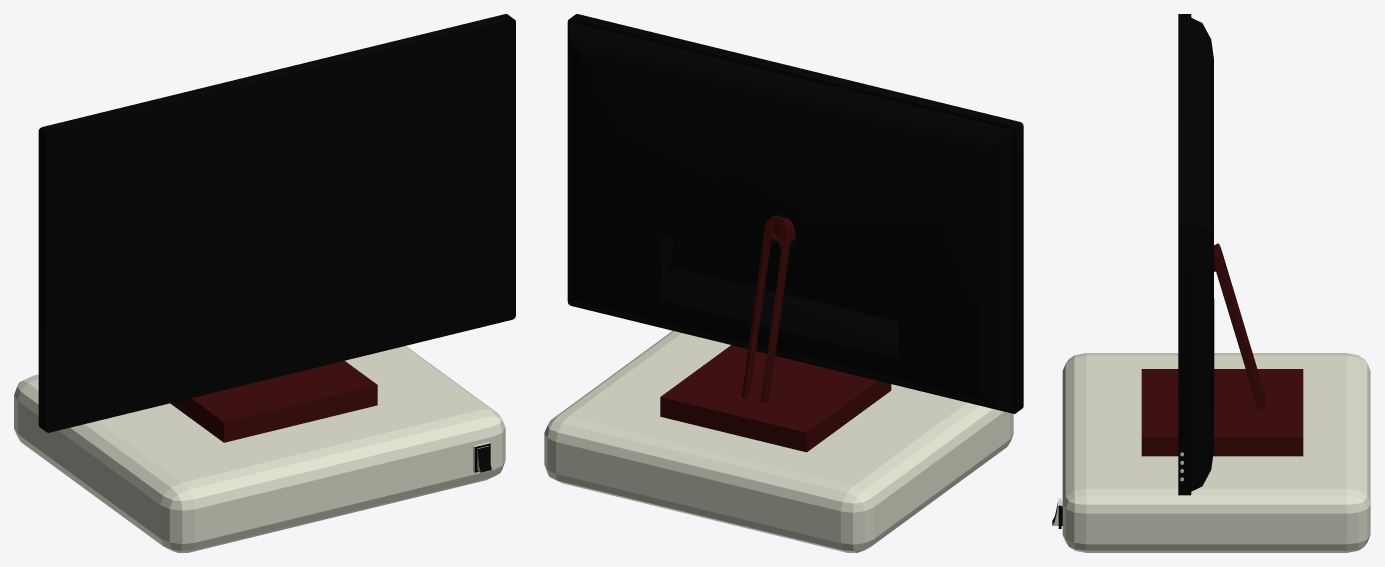
The model's file is UnlockManifolds.fbx.
3 views of the same model, side by side, from view 1: azimuth 30°, elevation 25°; view 2: azimuth 150°, elevation 25°; view 3: azimuth 270°, elevation 25° (orthographic). The views are drawn at different scales.
Visible parts, largest first — view 1: UnlockManifolds; view 2: UnlockManifolds; view 3: UnlockManifolds.
Part boxes in pixels (box(x1,y1,x2,y2)): UnlockManifolds: box(14, 14, 515, 552); UnlockManifolds: box(544, 14, 1023, 552); UnlockManifolds: box(1052, 14, 1370, 552).
Size of the model in its own units: 274 by 223 by 176.
